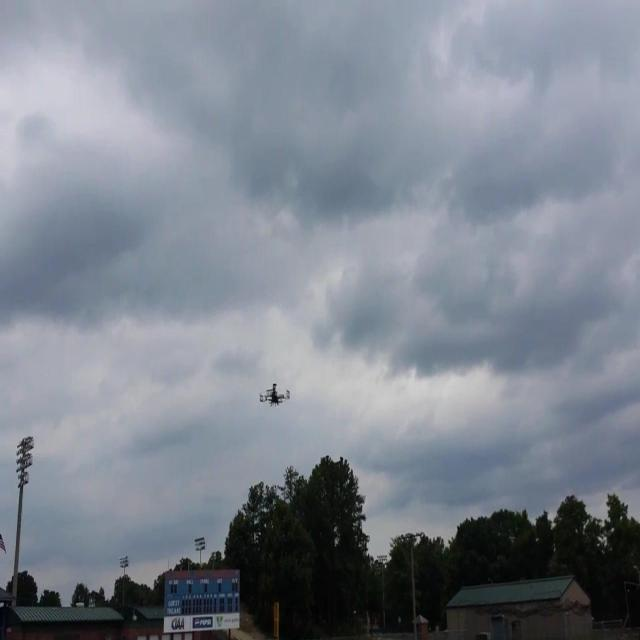drone: (259, 378, 293, 409)
